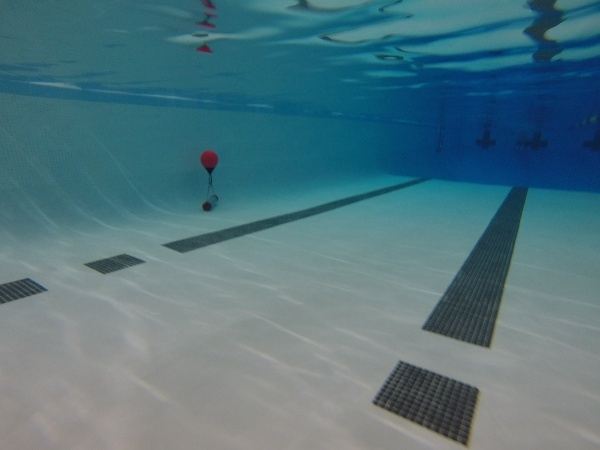buoy_red: (200, 148, 219, 173)
